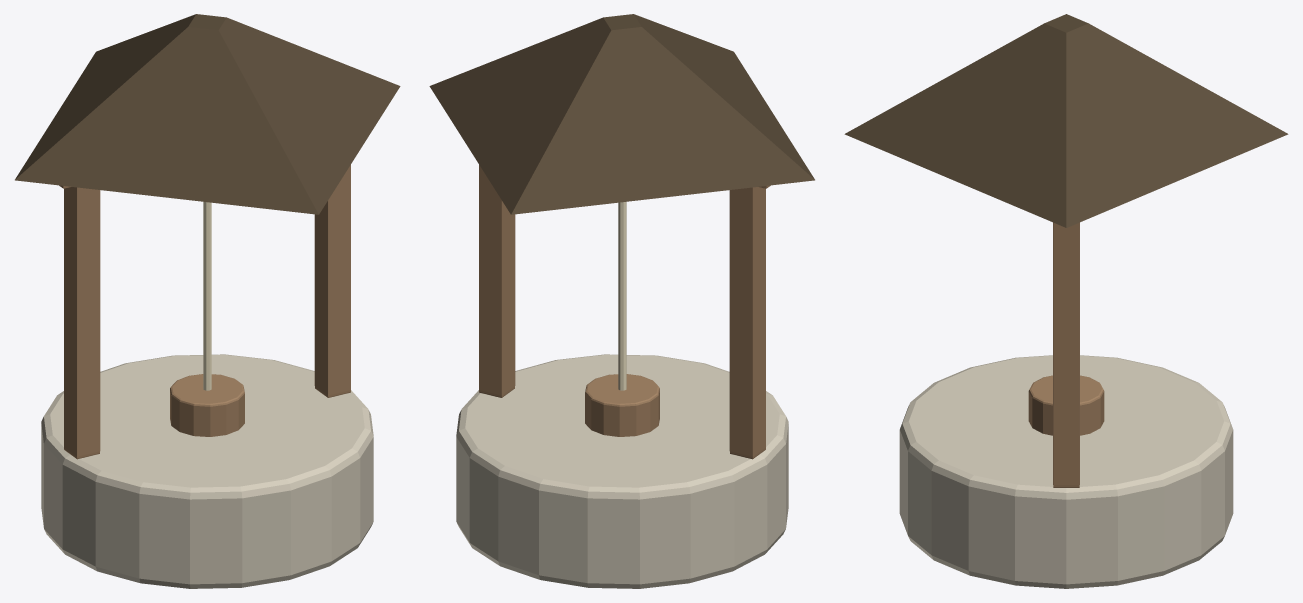
Rendered from well.glb.
The picture shows the model from 3 angles, left to right: view 1: azimuth 30°, elevation 25°; view 2: azimuth 150°, elevation 25°; view 3: azimuth 270°, elevation 25°; orthographic projection.
Parts seen in each view (by area): view 1: Well; view 2: Well; view 3: Well.
Boxes of the visible parts, bbox=[...] form: Well: bbox=[15, 14, 400, 588]; Well: bbox=[429, 14, 814, 588]; Well: bbox=[844, 14, 1288, 588].
Bounding box in the file's own units: 2 × 2.48 × 2.
